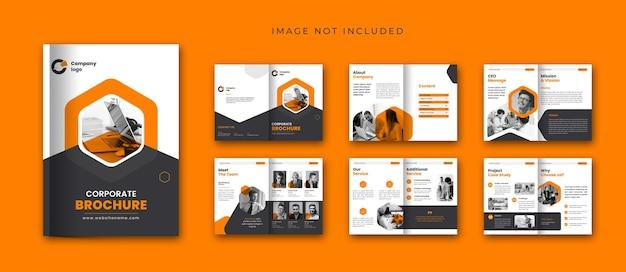paper: (43, 43, 181, 238), (348, 158, 460, 237), (348, 64, 459, 142), (213, 64, 324, 142), (483, 64, 593, 142), (484, 157, 593, 235), (213, 158, 323, 235)
